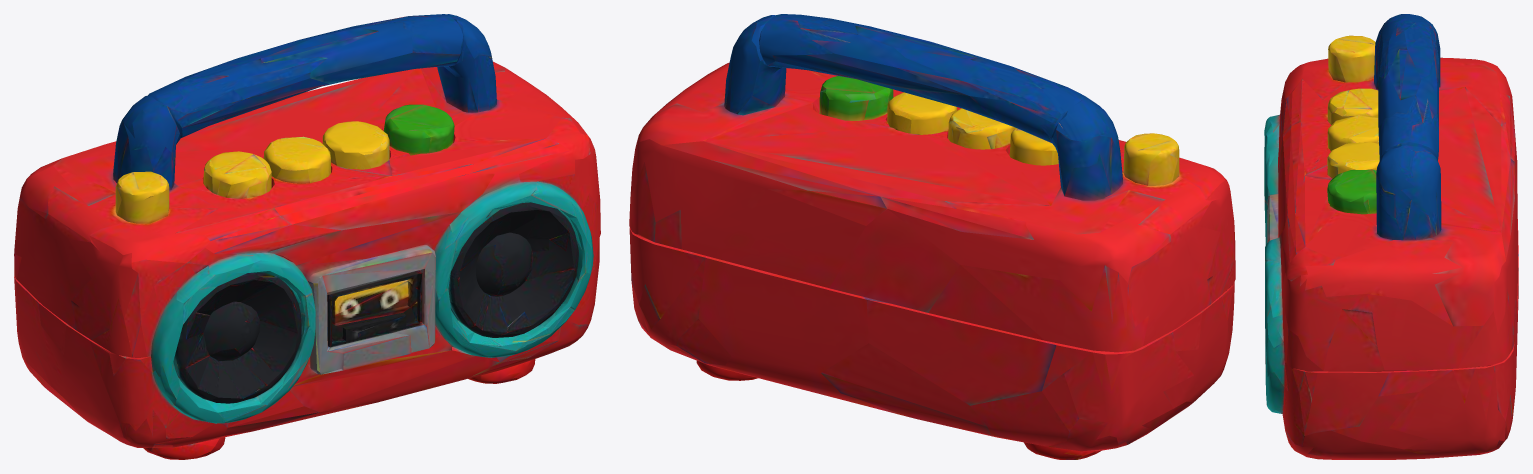
Rendered from cy-boombox.glb.
3 views of the same model, side by side, from view 1: azimuth 30°, elevation 25°; view 2: azimuth 150°, elevation 25°; view 3: azimuth 270°, elevation 25° (orthographic). The views are drawn at different scales.
Bounding box in the file's own units: 1.9 × 1.19 × 0.8843.
Materials: 1 (1 with a texture image).
